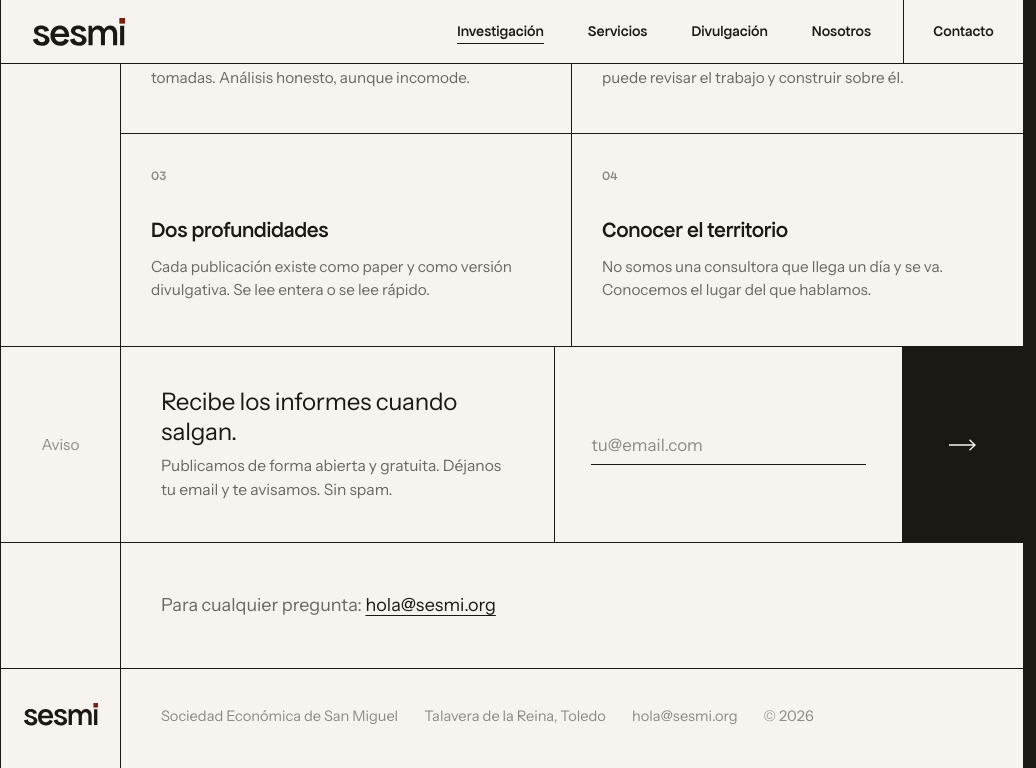
Test: rutas › el formulario de aviso es un mock que confirma en la fila
(page scrolled)
In the field labelled "Recibe los informes cuando salgan.": [729, 445] box x1=591 y1=425 x2=866 y2=465, type "hola@sesmi.org"
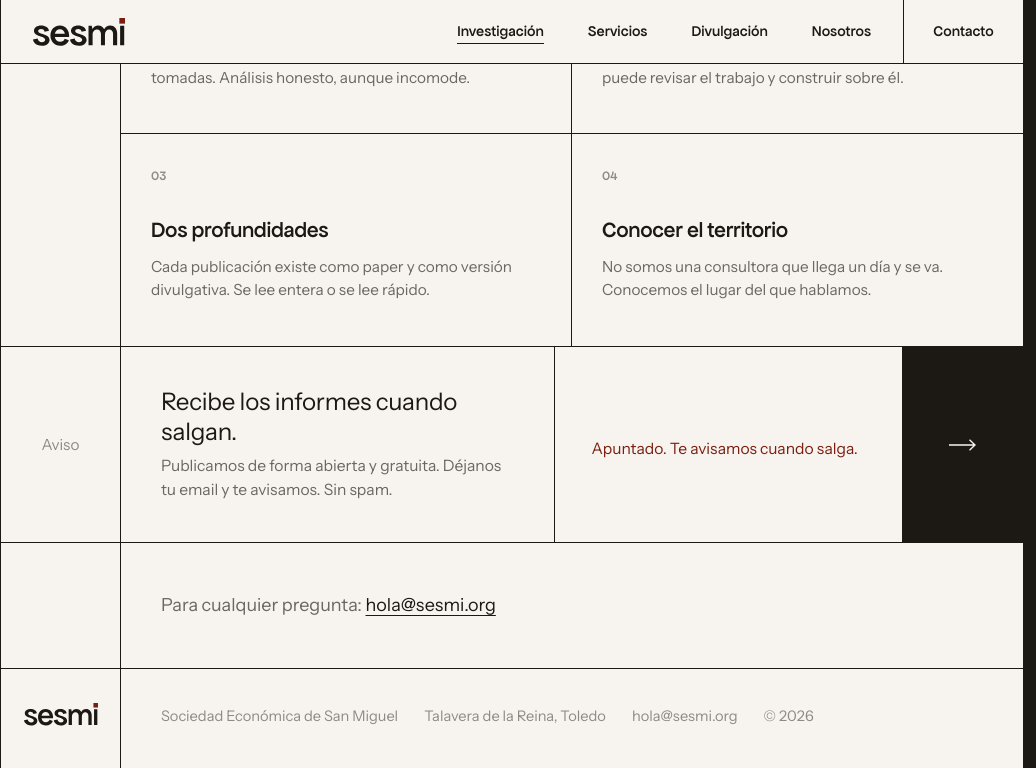
Now the text "Apuntado. Te avisamos cuando salga." is shown, box x1=591 y1=437 x2=866 y2=462
